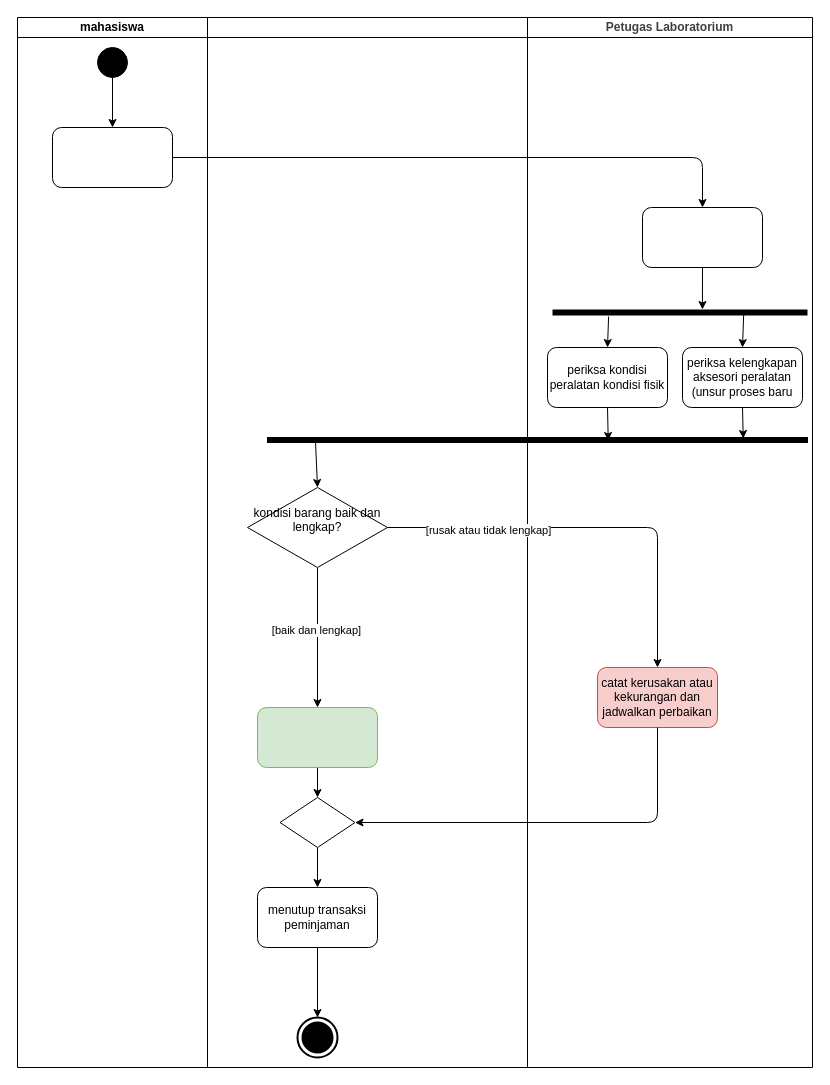
Some shapes in this 830 by 1085 pixel diagram are drawn without their labels. The box of each missing label's shape, as (x1, y1, x2, y2) in pixels:
catat pengembalian peralatan: (642, 206, 762, 268)
menyerahkan peralatan yang di pinjam: (52, 126, 172, 188)
perbarui status peralatan jadi tersedia: (256, 706, 378, 768)
sistem: (206, 16, 528, 1068)
